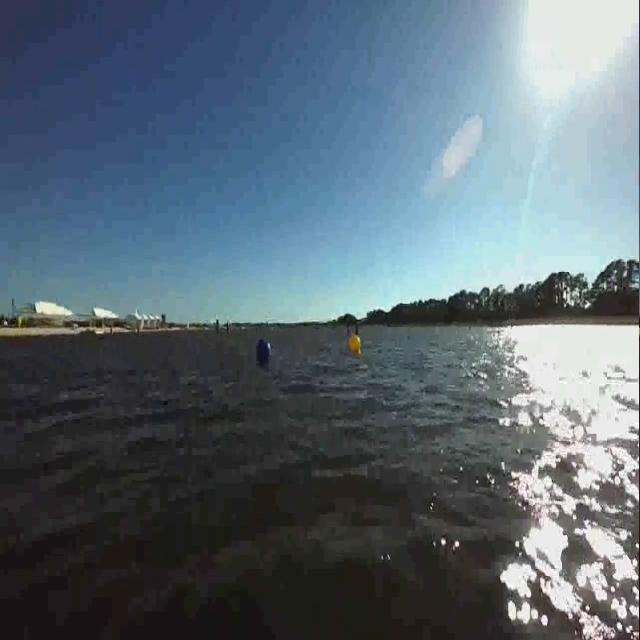blue-buoy: (257, 338, 273, 366)
yellow-buoy: (349, 335, 362, 356)
